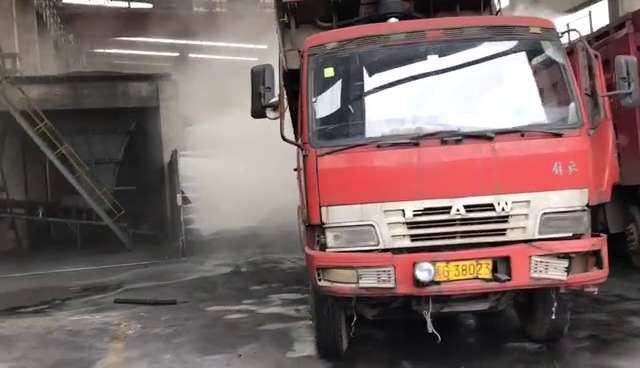dust: (125, 11, 293, 251)
truck: (291, 0, 623, 360)
